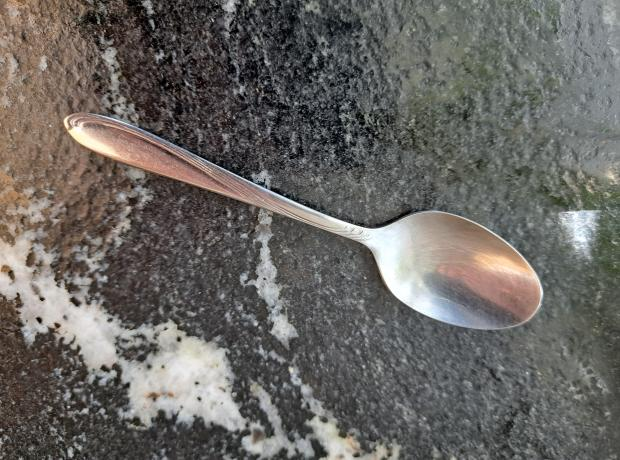metal: (57, 109, 535, 325)
